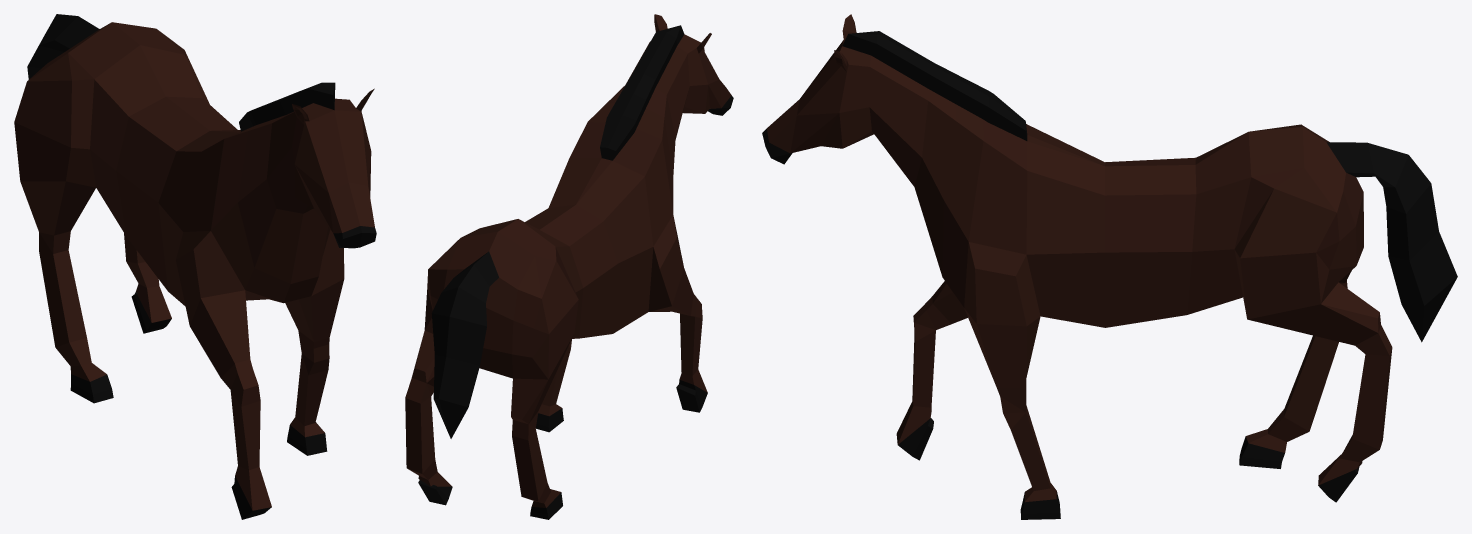
The model's file is Horse_000012.obj.
3 views of the same model, side by side, from view 1: azimuth 30°, elevation 25°; view 2: azimuth 150°, elevation 25°; view 3: azimuth 270°, elevation 25° (orthographic). The views are drawn at different scales.
Visible parts, largest first — view 1: Horse_Cylinder; view 2: Horse_Cylinder; view 3: Horse_Cylinder.
Boxes of the visible parts, x1,y1,x2,y2 form: Horse_Cylinder: [14, 14, 376, 519]; Horse_Cylinder: [405, 14, 733, 519]; Horse_Cylinder: [762, 14, 1457, 519].
Size of the model in its own units: 2.58 by 6.74 by 9.44.
